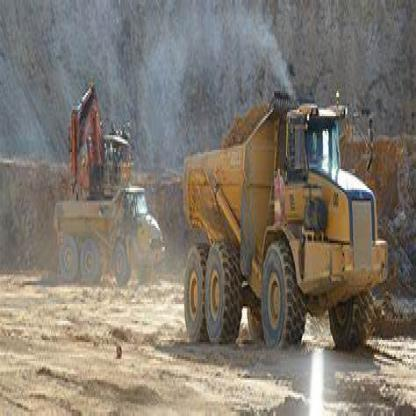dump_truck: (186, 87, 397, 382), (45, 127, 171, 302)
